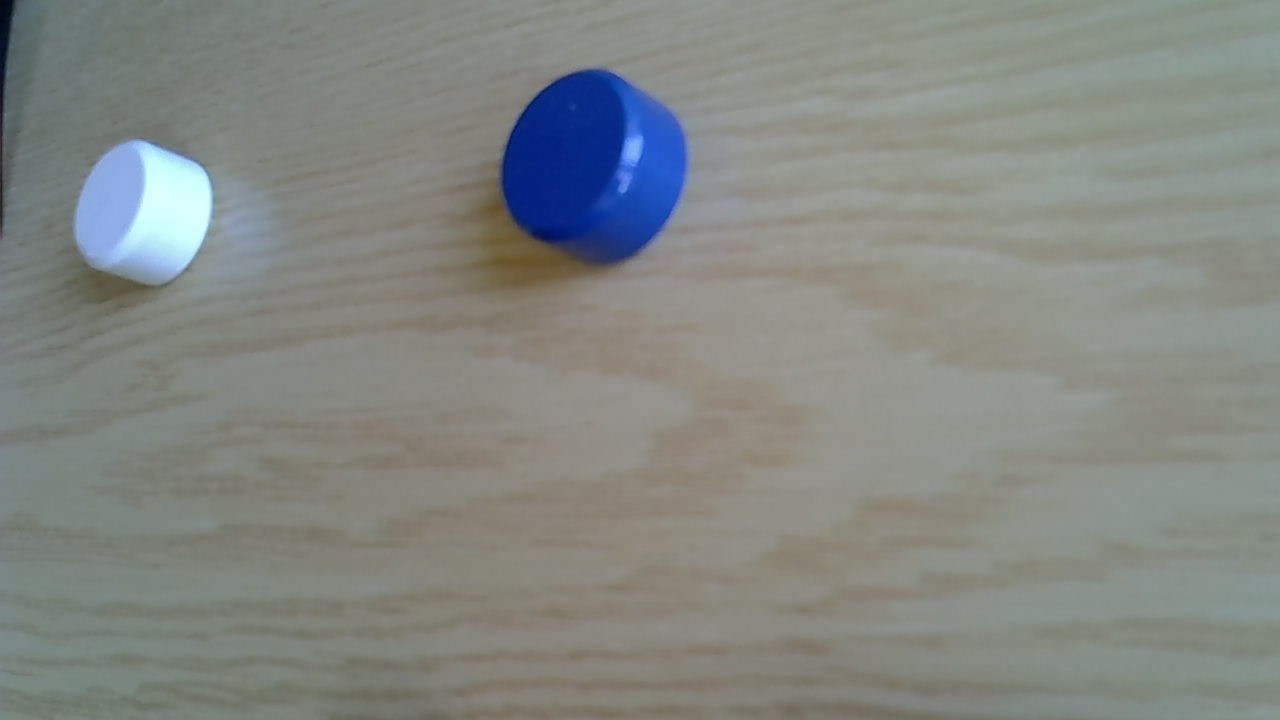WerkStueck: (501, 69, 692, 267), (70, 138, 214, 290)
